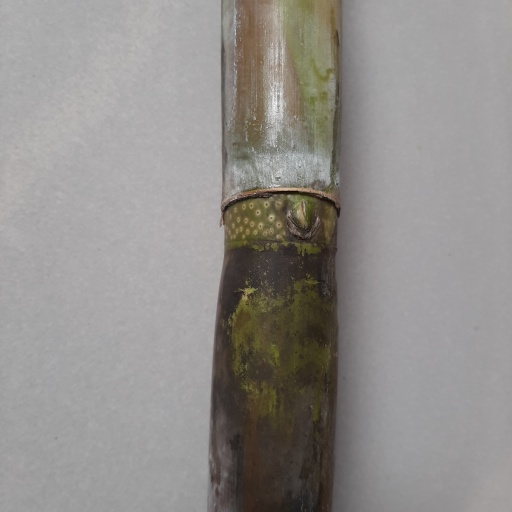Bud: (286, 197, 317, 232)
